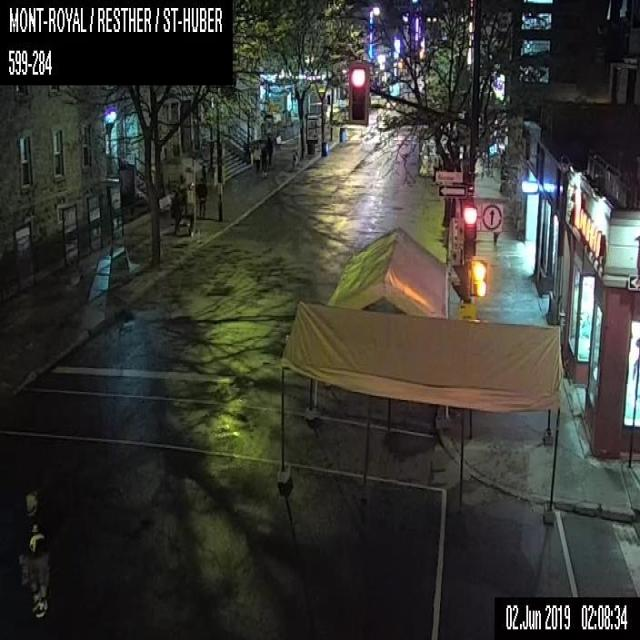pedestrian: (19, 492, 50, 617), (172, 191, 181, 233), (197, 176, 206, 215), (266, 134, 273, 164), (253, 143, 260, 172), (260, 144, 266, 177), (492, 231, 498, 244)
